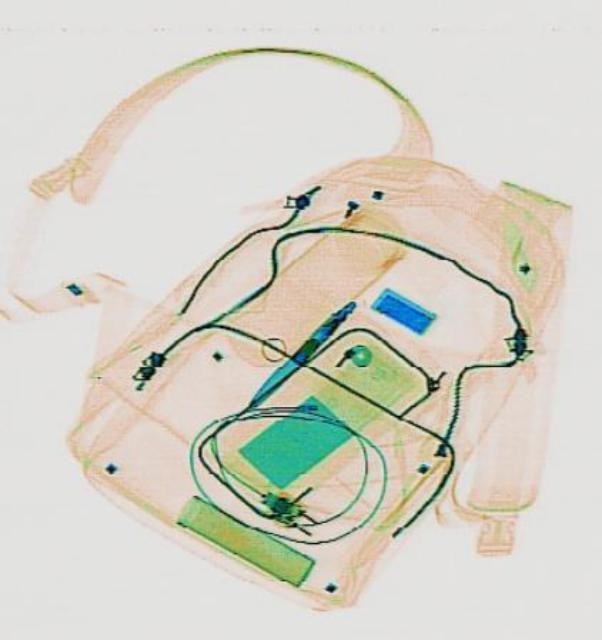Knife: (240, 294, 356, 412)
